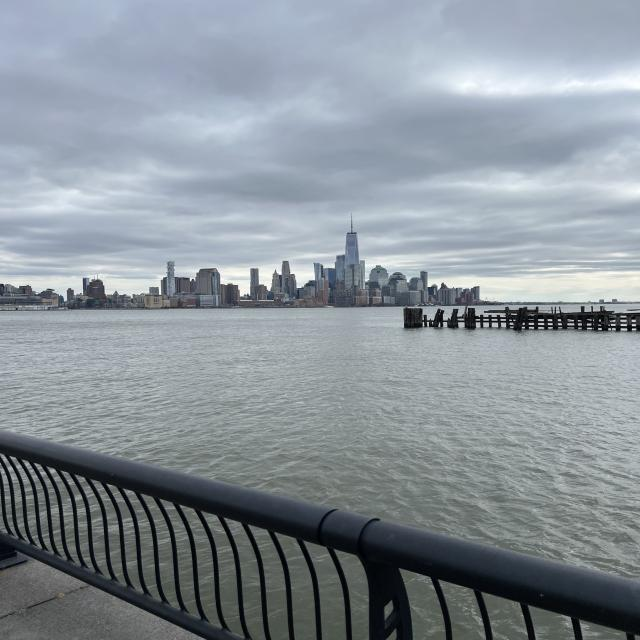WTC: (344, 211, 360, 265)
